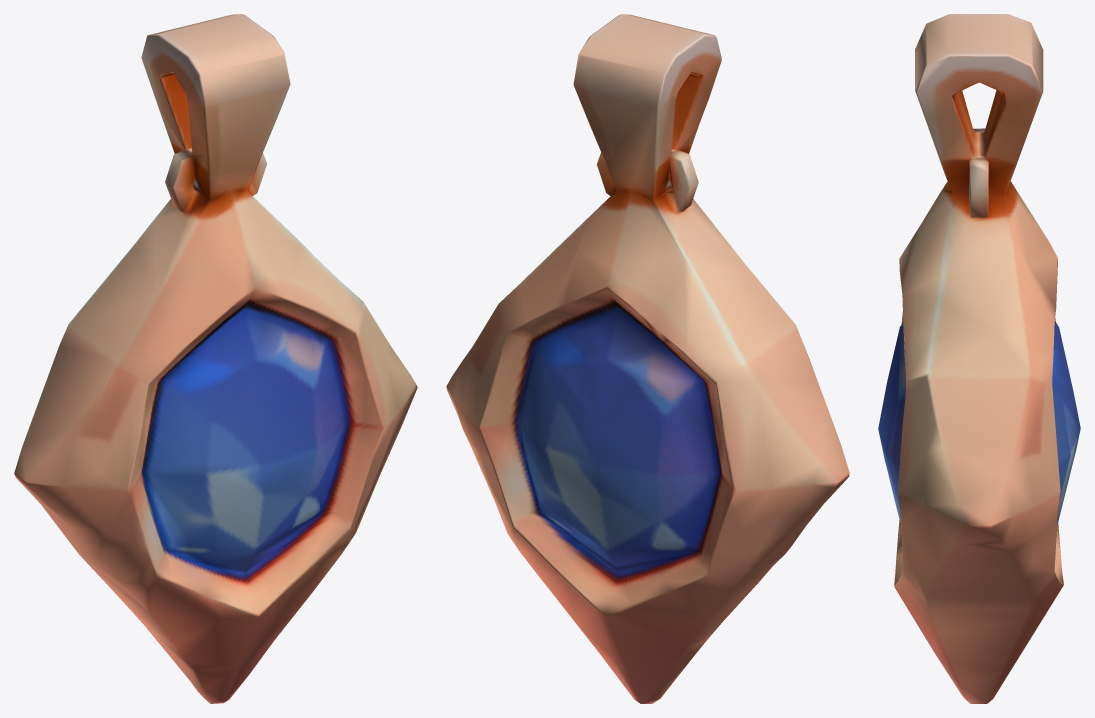
3 views of the same model, side by side, from view 1: azimuth 30°, elevation 25°; view 2: azimuth 150°, elevation 25°; view 3: azimuth 270°, elevation 25° (orthographic).
Visible parts, largest first — view 1: seer-pendant; view 2: seer-pendant; view 3: seer-pendant.
Part boxes in pixels (bbox=[...]): seer-pendant: bbox=[14, 14, 417, 703]; seer-pendant: bbox=[446, 14, 849, 703]; seer-pendant: bbox=[878, 14, 1080, 703].
Bounding box in the file's own units: 0.1072 × 0.1736 × 0.0479.
1 material, 1 textured.
